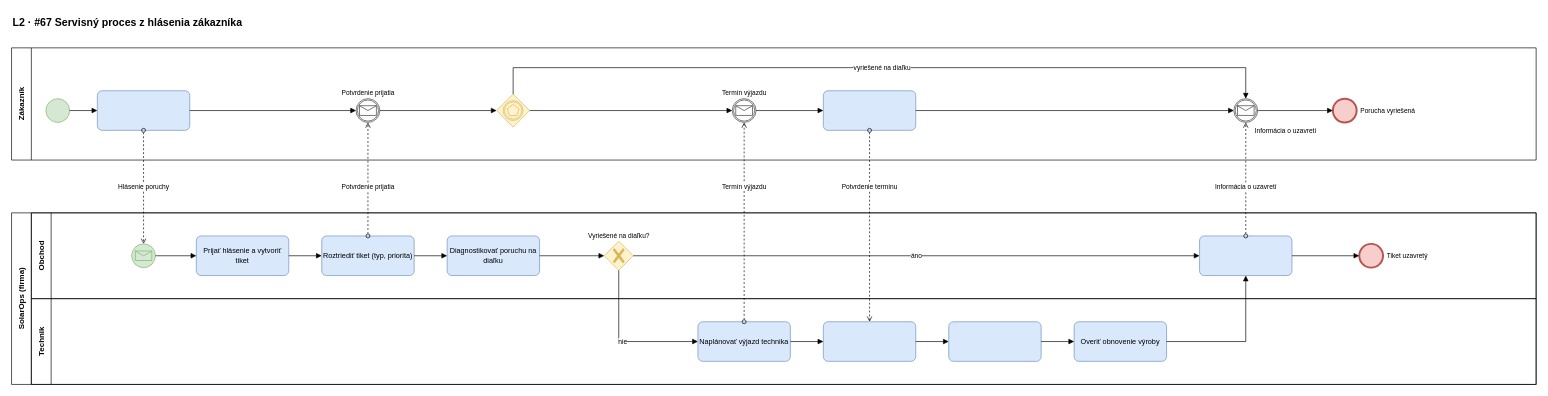
This 1548x396 diagram has some shape labels left out. The centre of each missing label's shape, as x and y in pixels:
"Hlásenie poruchy od zákazníka" goes at (143,255).
"Nahlásiť poruchu (portál, telefón)" goes at (143,110).
"Opraviť alebo vymeniť komponent na mieste" goes at (869,341).
"Porucha zistená" goes at (57,110).
"Potvrdiť termín a sprístupniť FVE" goes at (869,110).
"Uzavrieť tiket a informovať zákazníka" goes at (1245,255).
"Zapísať servisný zásah" goes at (994,341).
"Čakať na odpoveď" goes at (513,110).
